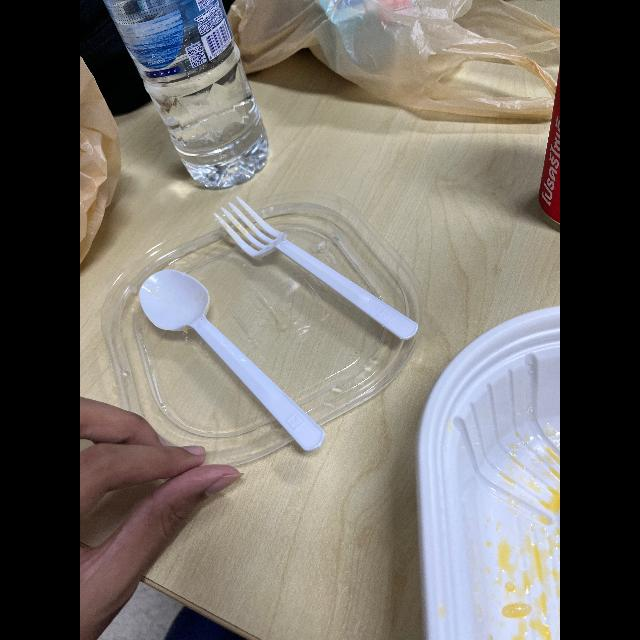plastic_cultery: (130, 264, 334, 454), (206, 198, 420, 352)
